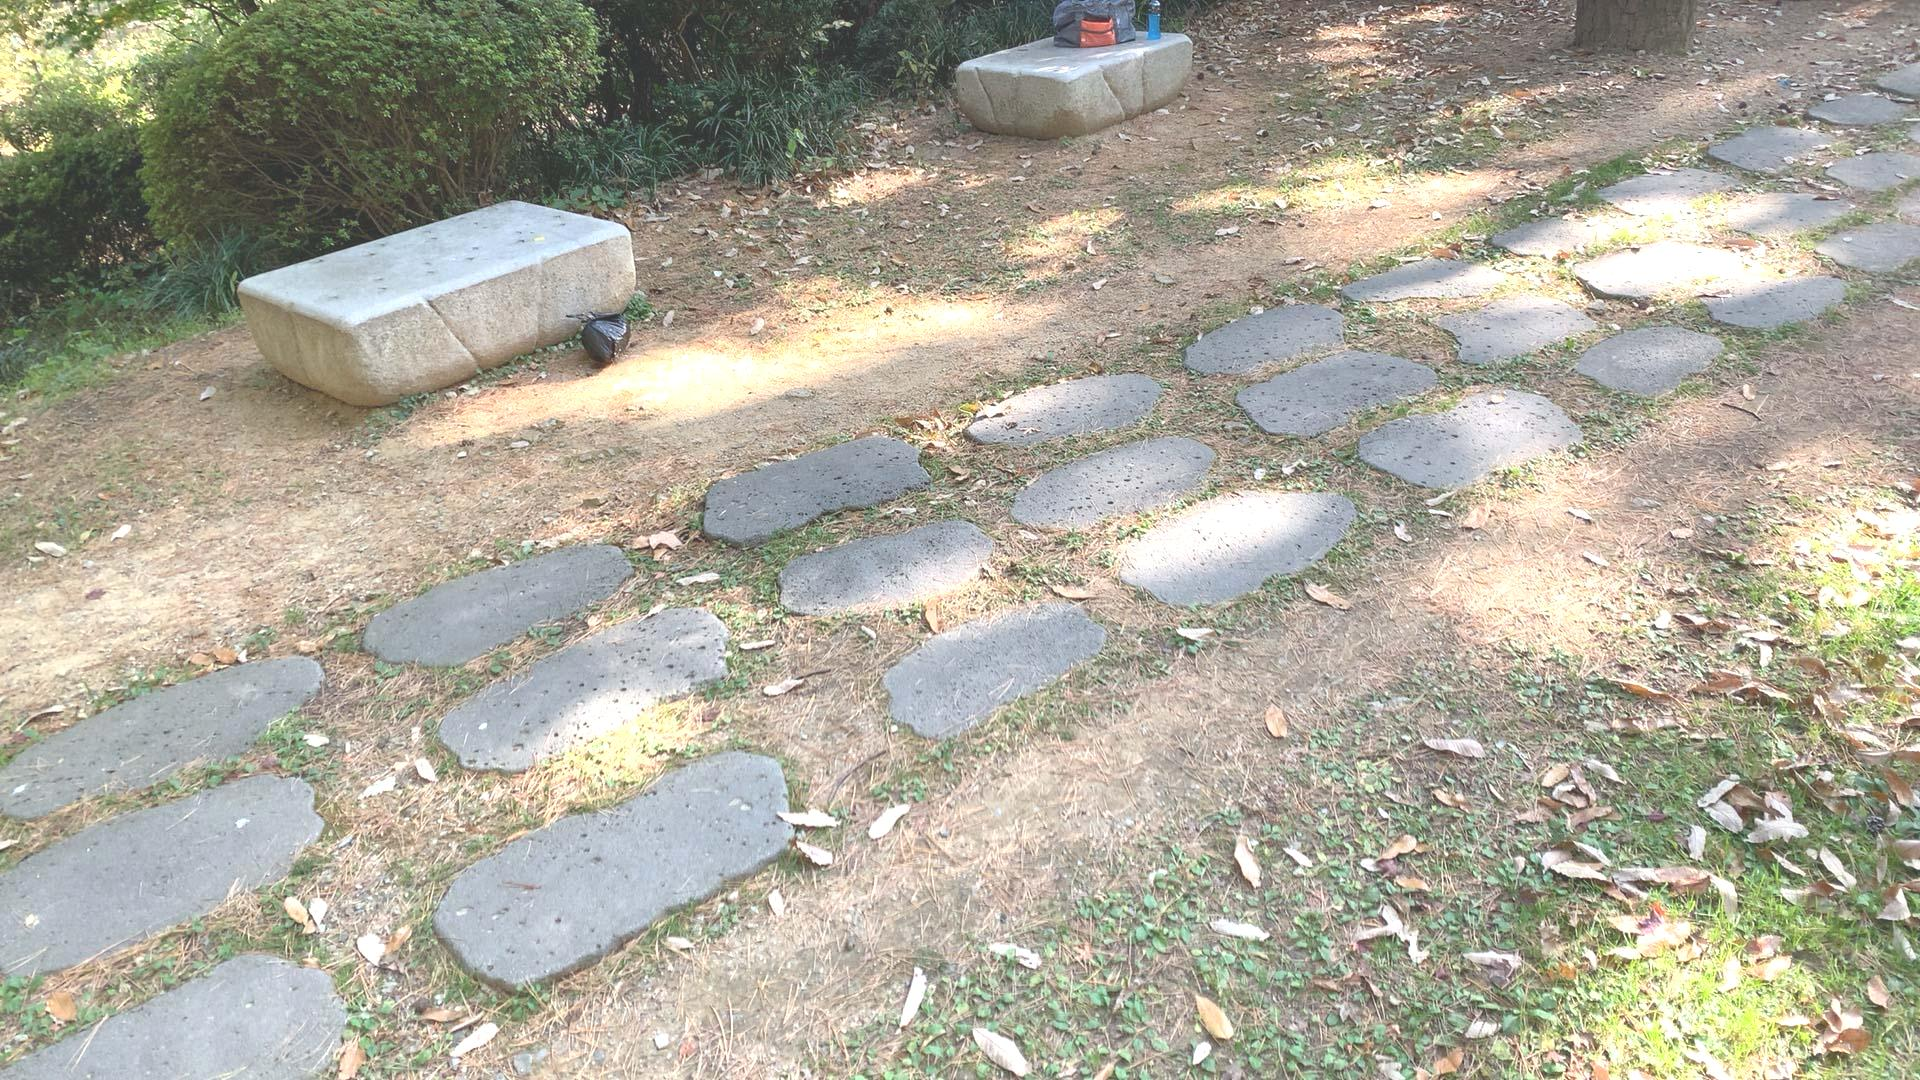white_bag: (563, 309, 636, 364)
